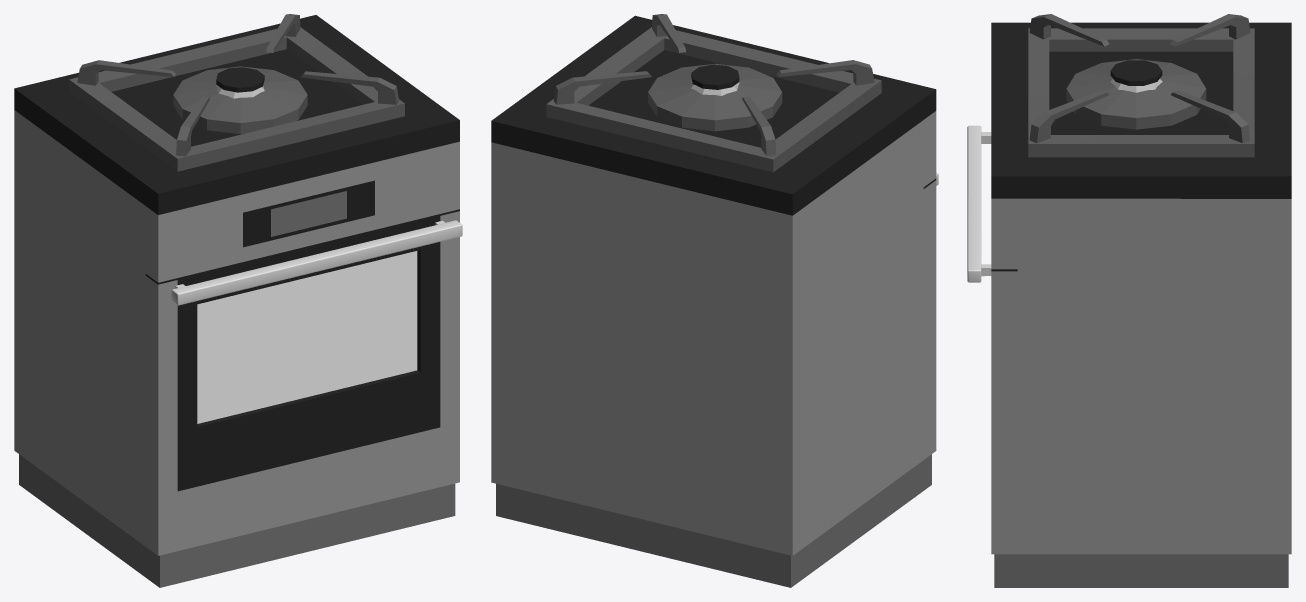
Rendered from kitchen_73.fbx.
3 renders of one model, left to right at view 1: azimuth 30°, elevation 25°; view 2: azimuth 150°, elevation 25°; view 3: azimuth 270°, elevation 25°, orthographic. The views are drawn at different scales.
Parts seen in each view (by area): view 1: kitchen_031; view 2: kitchen_031; view 3: kitchen_031.
Boxes of the visible parts, bbox=[...] form: kitchen_031: bbox=[14, 14, 462, 587]; kitchen_031: bbox=[491, 14, 938, 587]; kitchen_031: bbox=[967, 14, 1291, 587].
Size of the model in its own units: 86 by 117 by 76.62.
